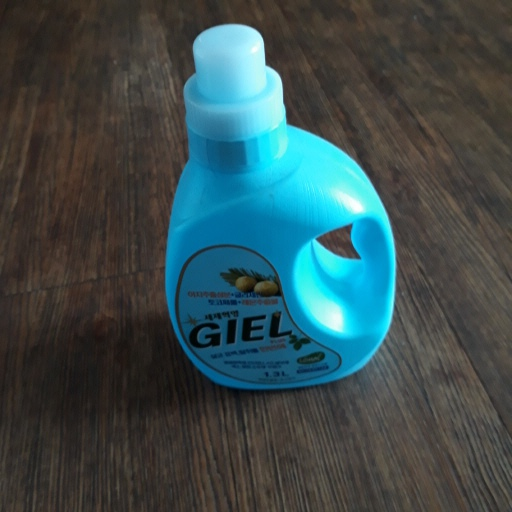Plastic_1: (163, 24, 398, 388)
